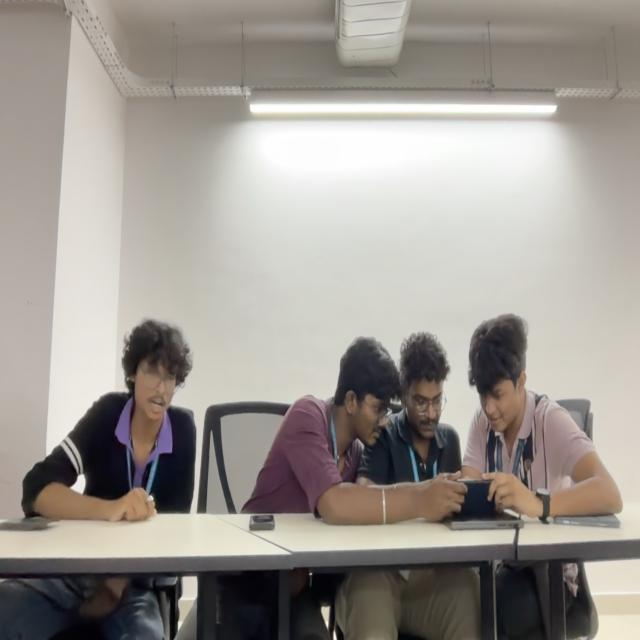Isolated: (22, 312, 196, 523)
socializing: (258, 313, 622, 526)
